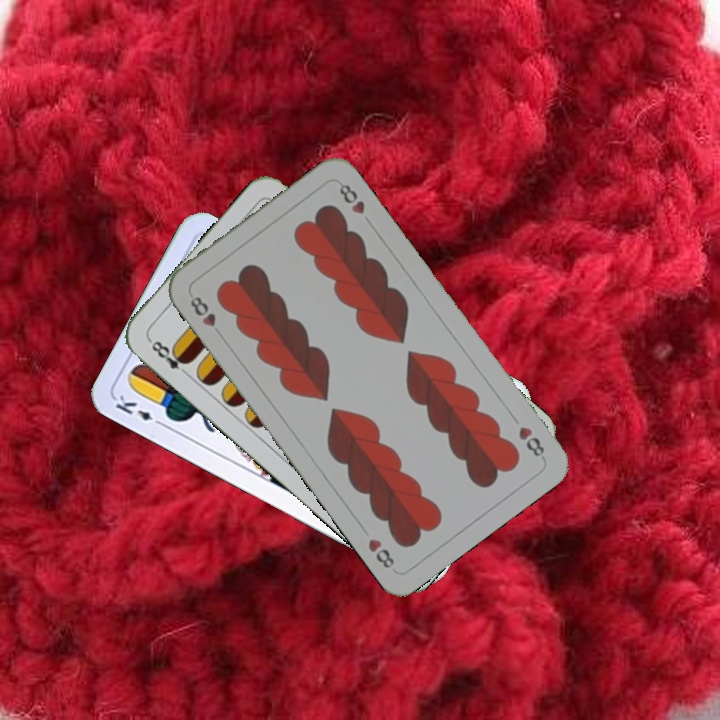E8: (145, 335, 193, 379)
EK: (111, 391, 167, 430)
H8: (186, 292, 226, 340), (514, 422, 548, 463)
